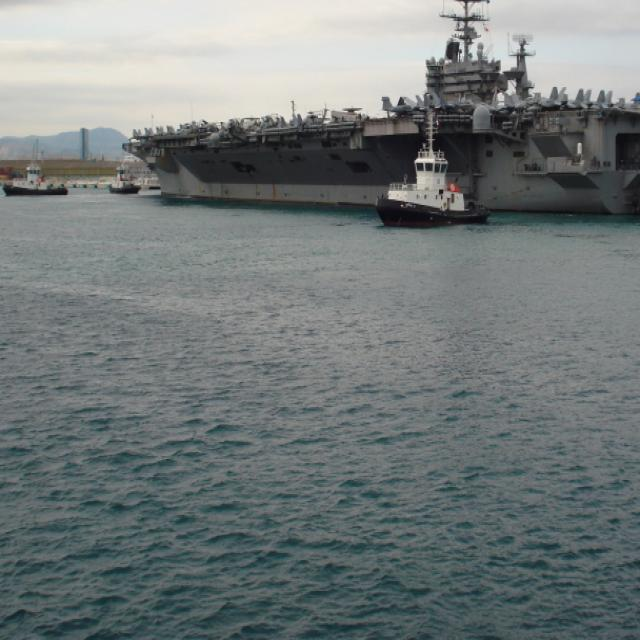Portanaves: (117, 1, 640, 221)
